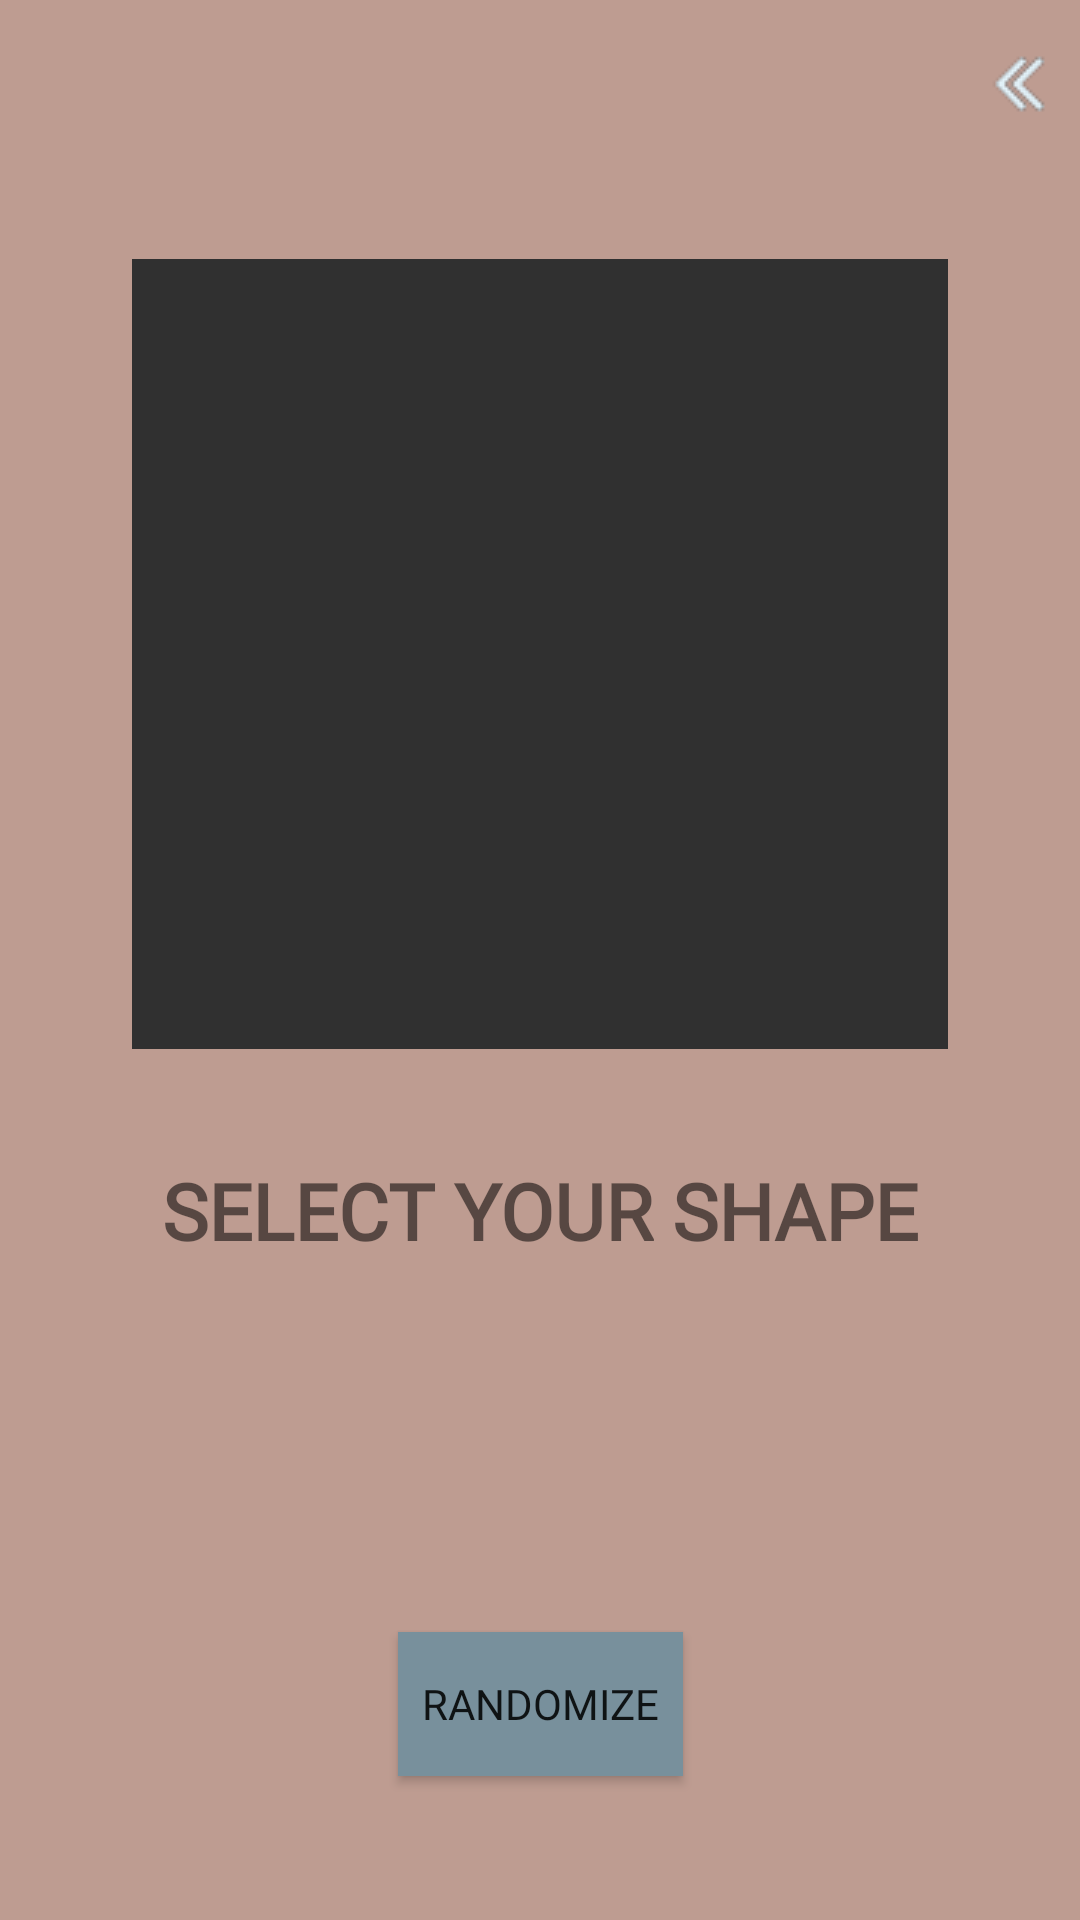

Where to tap for icons on this 1080px x 1920px app screen, as [x,y]:
double left: [1020,84]
